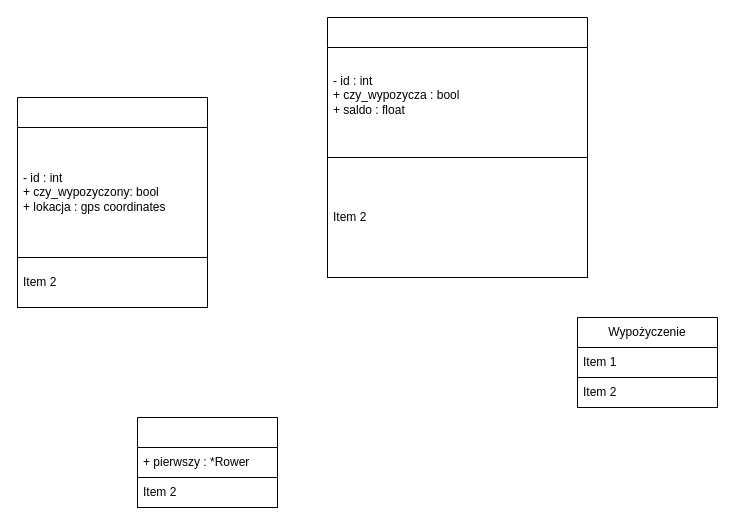
The diagram is 735 pixels wide and 525 high, and some of its shapes have lost their labels. The shapes that lost their labels are listed below. From the top down, each one's box as (x1, y1, x2, y2) in pixels, then its label:
(326, 16, 588, 278): Użytkownik
(16, 96, 208, 308): Rower
(136, 416, 278, 508): Wykaz Rowerów
